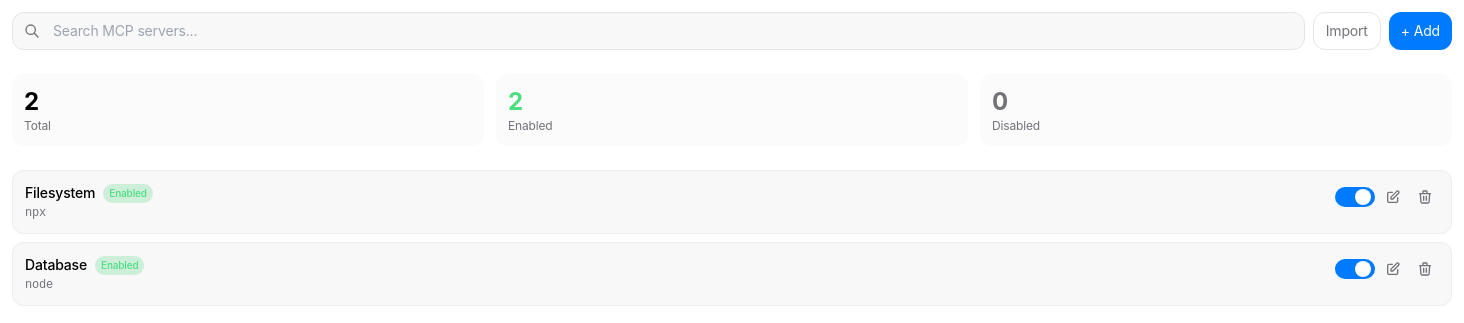
McpServerSettings › filters servers by search query
In the field with placeholder "Search MCP servers...": (658,31) [12, 12, 1305, 50], type "file"
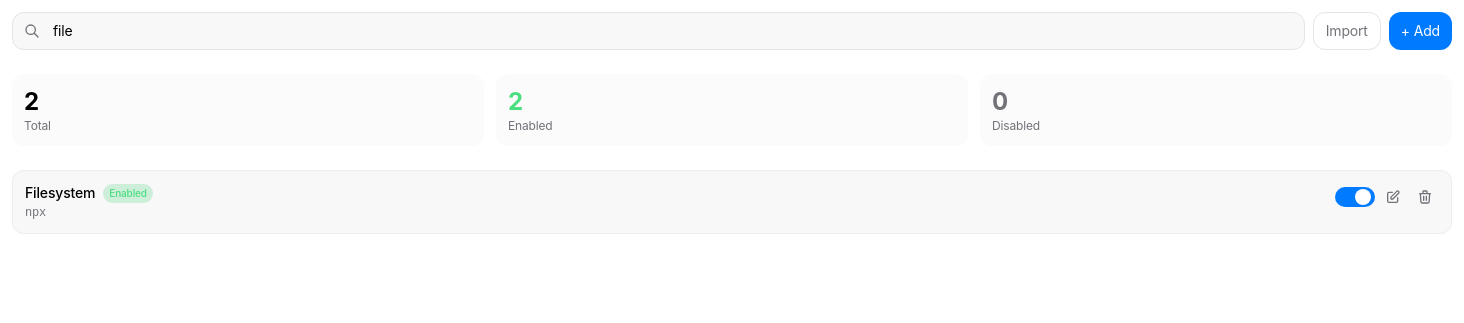
Check: the text "Filesystem" is shown, box [25, 183, 95, 203]
Check: the text "Database" is gone
